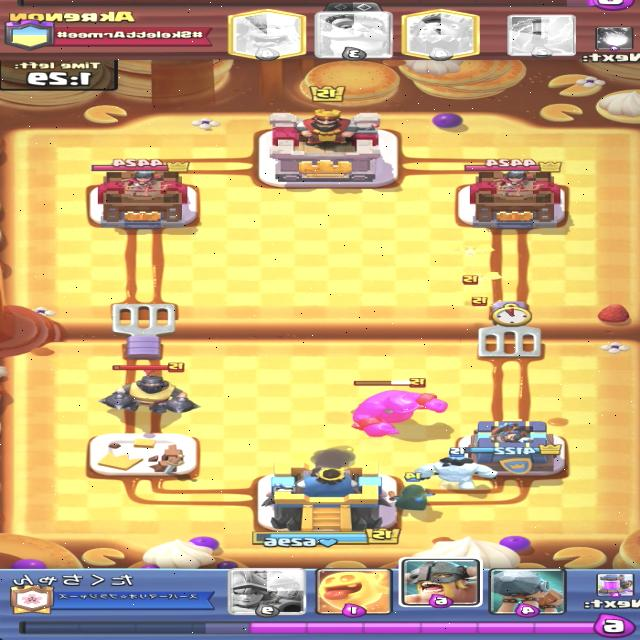Enemy-ElixirGolem: (349, 378, 450, 438)
Enemy-MegaKnight: (99, 362, 201, 415)
Player-Bandit: (386, 472, 436, 511)
Player-IceGolem: (410, 447, 499, 493)
